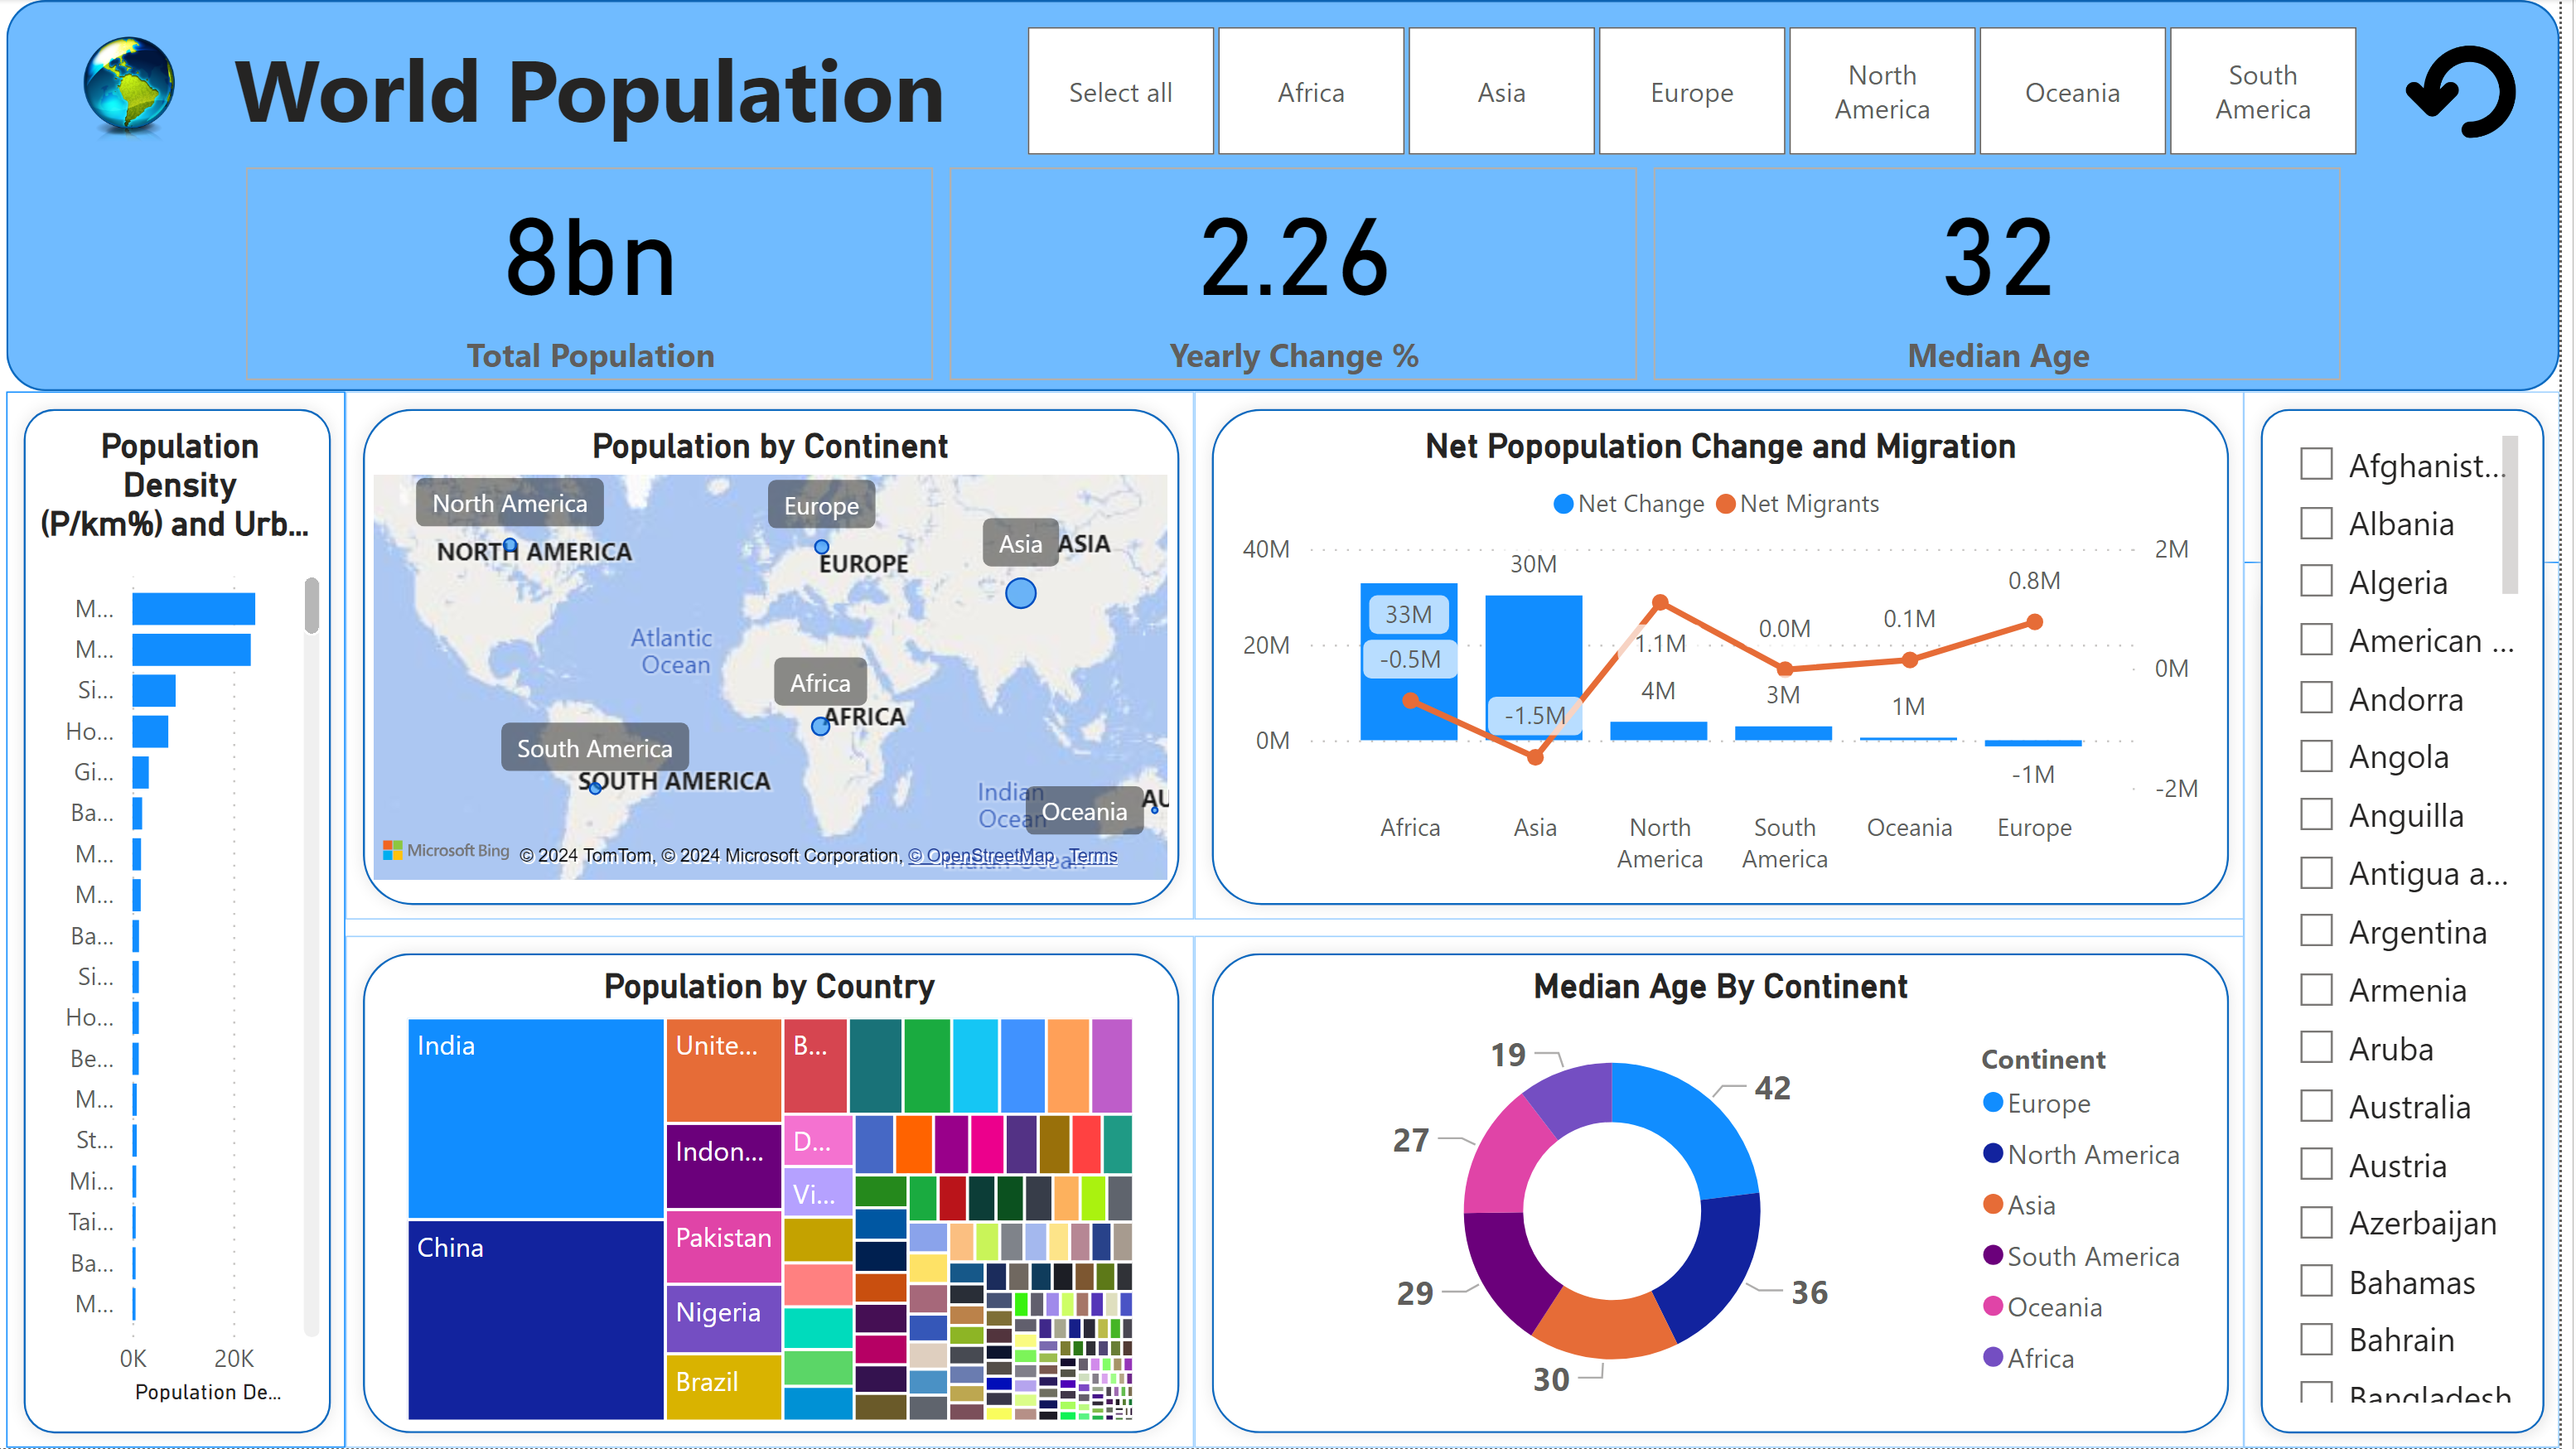

The dashboard page shown, as its layout file describes it:
{"tool":"powerbi","page":{"name":"Page 1","canvas":[1280,720],"ordinal":0},"visuals":[{"type":"shape","box":[10.3,0,1269.7,194.5],"z":0},{"type":"shape","box":[10.3,194.5,168.8,525.5],"z":1000},{"type":"shape","box":[1122.9,279.6,157.1,440.4],"z":2000},{"type":"shape","box":[1122.9,194.5,157.1,525.5],"z":3000},{"type":"shape","box":[601.1,194.5,521.8,262.8],"z":4000},{"type":"shape","box":[179.1,194.5,422,262.8],"z":5000},{"type":"shape","box":[179.1,465.3,422,254.7],"z":6000},{"type":"shape","box":[601.1,465.3,521.8,254.7],"z":7000},{"type":"image","box":[38.9,12.5,65.3,65.3],"z":8000},{"type":"textbox","box":[118.9,9.5,374.3,71.9],"z":9000},{"type":"cardVisual","fields":{"Data":["Sum(World Population.Population (2023))","Sum(World Population.Yearly Change)","Median(World Population.Med. Age)"]},"box":[124.2,77.9,1055,116.8],"z":10000},{"type":"slicer","fields":{"Values":["Continents.Continent"]},"box":[492.6,6.2,710.7,77.9],"z":11000},{"type":"slicer","fields":{"Values":["Continents.Country"]},"box":[1138.5,211.4,126.3,491.3],"z":12000},{"type":"map","title":"Population by Continent","fields":{"Category":["Continents.Continent"],"Size":["Sum(World Population.Population (2023))"]},"box":[187.9,211.4,405.4,231.1],"z":13000},{"type":"lineStackedColumnComboChart","title":"Net Popopulation Change and Migration","fields":{"Category":["Continents.Continent"],"Y":["Sum(World Population.Net Change)"],"Y2":["Sum(World Population.Migrants (net))"]},"box":[619.8,211.4,486.7,231.2],"z":14000},{"type":"donutChart","title":"Median Age By Continent","fields":{"Category":["Continents.Continent"],"Y":["Median(World Population.Med. Age)"]},"box":[619.8,479.9,486.7,222.8],"z":15000},{"type":"treemap","title":"Population by Country","fields":{"Group":["World Population.Country"],"Values":["Sum(World Population.Population (2023))"]},"box":[204.6,479.9,371.1,231.2],"z":16000},{"type":"barChart","fields":{"Y":["Sum(World Population.Density (P/Km²))"],"Category":["World Population.Country"]},"box":[22.8,211.4,148.3,491.3],"z":17000},{"type":"image","box":[1197.1,13,67.4,64.9],"z":18000}]}

Visuals, with their boxes in screenshot pixels (x1, y1, x2, y2), scaled from the page's 1280x720 canvas onto the 2576x1449 screenshot:
shape: left=21, top=0, right=2575, bottom=391
shape: left=21, top=391, right=360, bottom=1448
shape: left=2259, top=563, right=2575, bottom=1448
shape: left=2259, top=391, right=2575, bottom=1448
shape: left=1210, top=391, right=2259, bottom=920
shape: left=360, top=391, right=1210, bottom=920
shape: left=360, top=936, right=1210, bottom=1448
shape: left=1210, top=936, right=2259, bottom=1448
image: left=78, top=25, right=210, bottom=157
textbox: left=239, top=19, right=993, bottom=164
cardVisual - Sum(World Population.Population (2023)) x Sum(World Population.Yearly Change): left=250, top=157, right=2373, bottom=392
slicer - Continents.Continent: left=991, top=12, right=2422, bottom=169
slicer - Continents.Country: left=2291, top=426, right=2545, bottom=1414
"Population by Continent" map: left=378, top=426, right=1194, bottom=891
"Net Popopulation Change and Migration" lineStackedColumnComboChart: left=1247, top=426, right=2227, bottom=891
"Median Age By Continent" donutChart: left=1247, top=966, right=2227, bottom=1414
"Population by Country" treemap: left=412, top=966, right=1158, bottom=1431
barChart - Sum(World Population.Density (P/Km²)) x World Population.Country: left=46, top=426, right=345, bottom=1414
image: left=2409, top=27, right=2545, bottom=157
